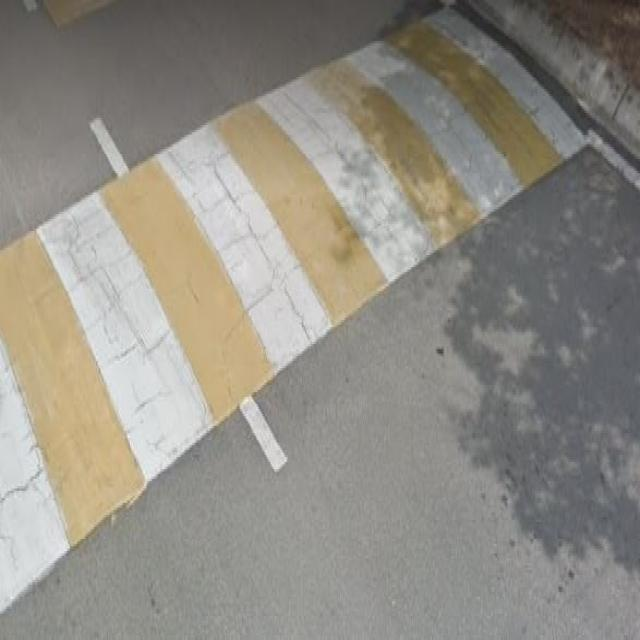speed-bump: (0, 0, 605, 621)
